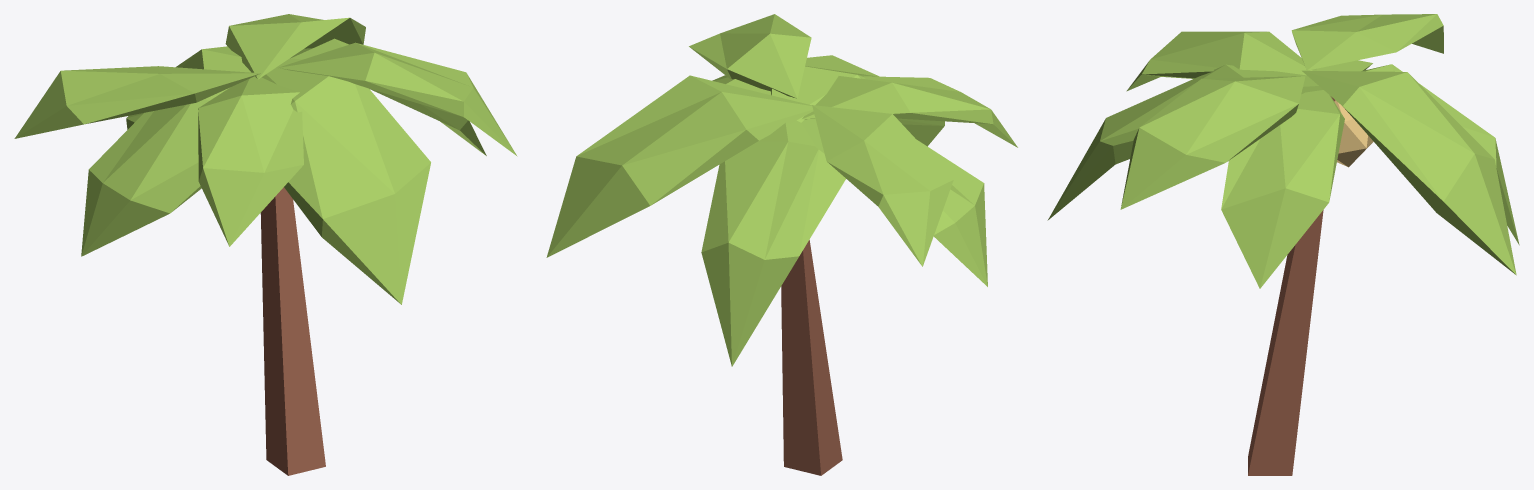
The model's file is tree2.fbx.
The picture shows the model from 3 angles, left to right: view 1: azimuth 30°, elevation 25°; view 2: azimuth 150°, elevation 25°; view 3: azimuth 270°, elevation 25°; orthographic projection. The views are drawn at different scales.
Parts seen in each view (by area): view 1: pPlatonic1, pasted__pasted__pasted__pasted__pPlatonic1 (×2), pasted__pPlatonic1 (×2), pCube1, pasted__pasted__pasted__pPlatonic1, pasted__pasted__pPlatonic1 (×2); view 2: pasted__pPlatonic1 (×2), pasted__pasted__pPlatonic1, pasted__pasted__pasted__pasted__pPlatonic1 (×2), pasted__pasted__pasted__pPlatonic1, pCube1, pPlatonic1; view 3: pasted__pasted__pasted__pasted__pPlatonic1 (×2), pasted__pPlatonic1, pasted__pasted__pPlatonic1 (×2), pCube1, pasted__pasted__pasted__pPlatonic1, pPlatonic1, pasted__pPlatonic2.
Part boxes in pixels (bbox=[...]): pPlatonic1: bbox=[251, 58, 430, 304]; pasted__pasted__pasted__pasted__pPlatonic1 (×2): bbox=[198, 42, 517, 246]; pasted__pPlatonic1 (×2): bbox=[81, 14, 365, 256]; pCube1: bbox=[260, 187, 325, 475]; pasted__pasted__pasted__pPlatonic1: bbox=[14, 66, 260, 138]; pasted__pasted__pPlatonic1 (×2): bbox=[126, 38, 486, 155]; pasted__pPlatonic1 (×2): bbox=[546, 75, 987, 286]; pasted__pasted__pPlatonic1: bbox=[701, 120, 845, 366]; pasted__pasted__pasted__pasted__pPlatonic1 (×2): bbox=[689, 14, 1017, 147]; pasted__pasted__pasted__pPlatonic1: bbox=[812, 105, 953, 266]; pCube1: bbox=[781, 240, 842, 475]; pPlatonic1: bbox=[771, 55, 944, 146]; pasted__pasted__pasted__pasted__pPlatonic1 (×2): bbox=[1120, 31, 1316, 209]; pasted__pPlatonic1: bbox=[1302, 70, 1516, 275]; pasted__pasted__pPlatonic1 (×2): bbox=[1221, 64, 1519, 288]; pCube1: bbox=[1248, 96, 1335, 475]; pasted__pasted__pasted__pPlatonic1: bbox=[1291, 14, 1443, 70]; pPlatonic1: bbox=[1047, 64, 1323, 220]; pasted__pPlatonic2: bbox=[1334, 100, 1373, 167].
Bounding box in the file's own units: 6.38 × 6.51 × 6.71.
